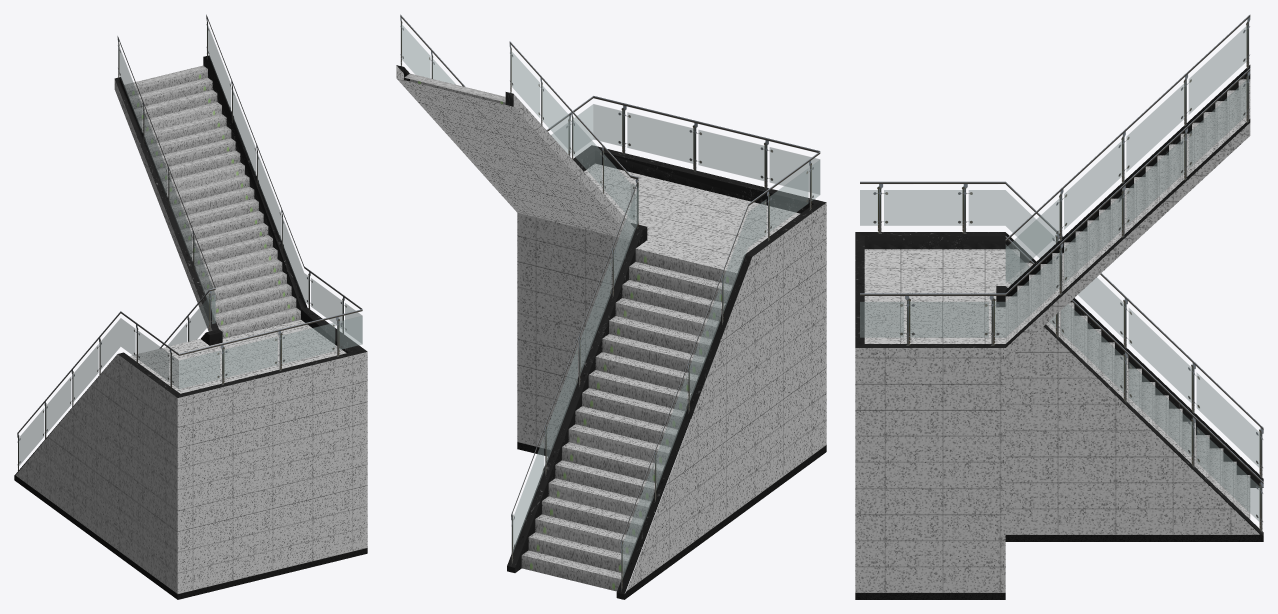
The picture shows the model from 3 angles, left to right: view 1: azimuth 30°, elevation 25°; view 2: azimuth 150°, elevation 25°; view 3: azimuth 270°, elevation 25°; orthographic projection. The views are drawn at different scales.
Parts seen in each view (by area): view 1: 10MU型楼梯; view 2: 10MU型楼梯; view 3: 10MU型楼梯.
Boxes of the visible parts, x1,y1,x2,y2 form: 10MU型楼梯: [14, 14, 367, 599]; 10MU型楼梯: [396, 14, 826, 599]; 10MU型楼梯: [855, 14, 1263, 599].
Size of the model in its own units: 5.2 by 11.1 by 7.75.
6 materials, 5 textured.
